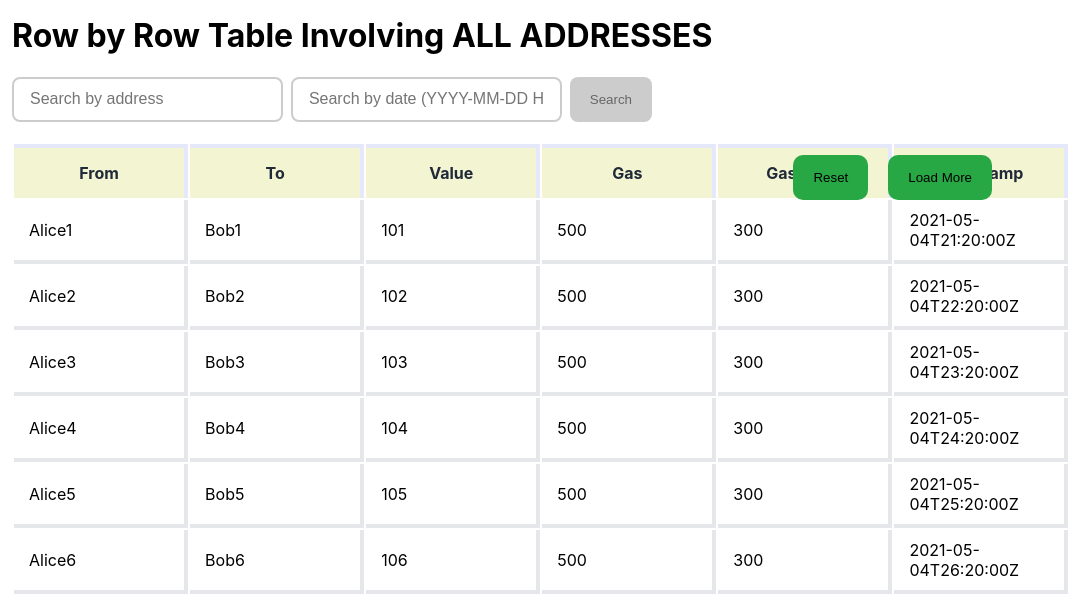
it: TransactionTable › updates the heading with the searched for address
Expected: the heading reads "Row by Row Table Involving ALL ADDRESSES", [12, 16, 712, 55]
In the field with placeholder "Search by address": (147, 99) [12, 77, 283, 122], type "0x123456789"
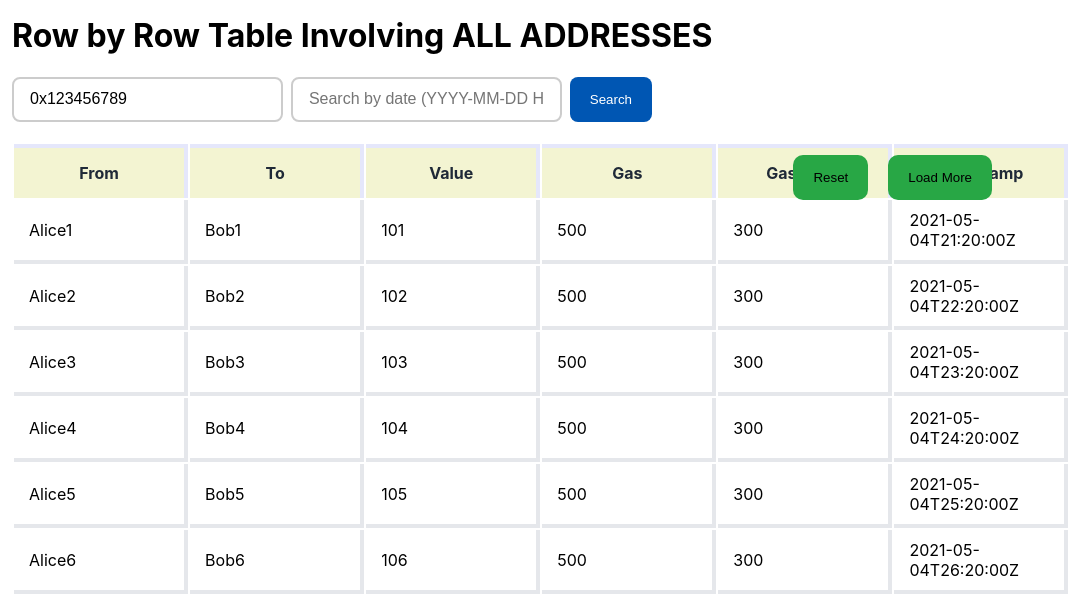
In the field with placeholder "Search by date (YYYY-MM-DD HH:MM:SS)": (426, 99) [291, 77, 562, 122], type "2021-05-04T20:20:00Z"
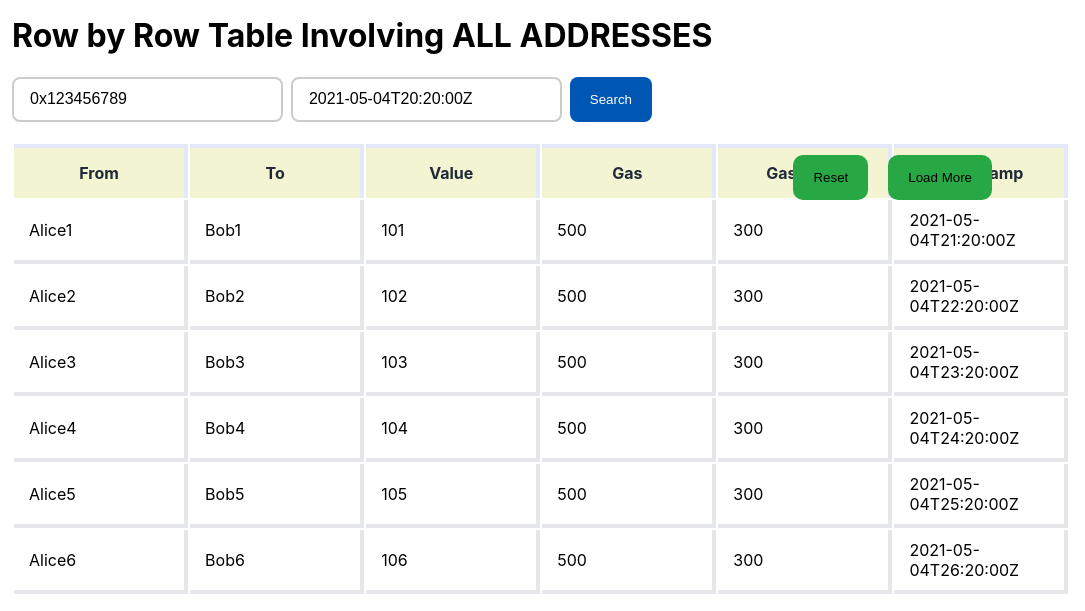
Click the button "Search": click(611, 99) [570, 77, 652, 122]
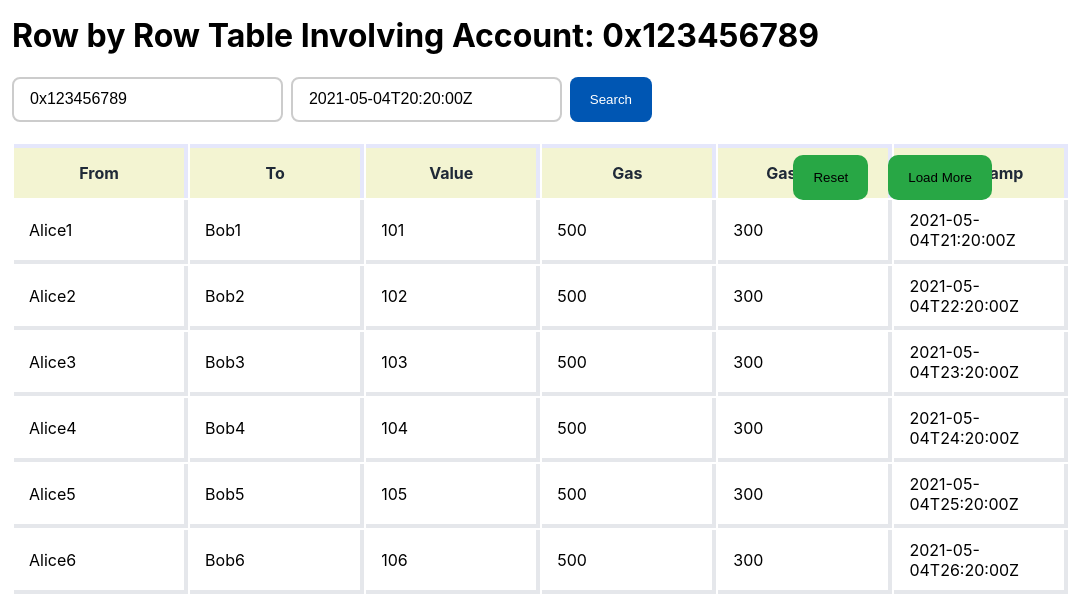
Now the heading reads "Row by Row Table Involving Account: 0x123456789", box [12, 16, 819, 55]
